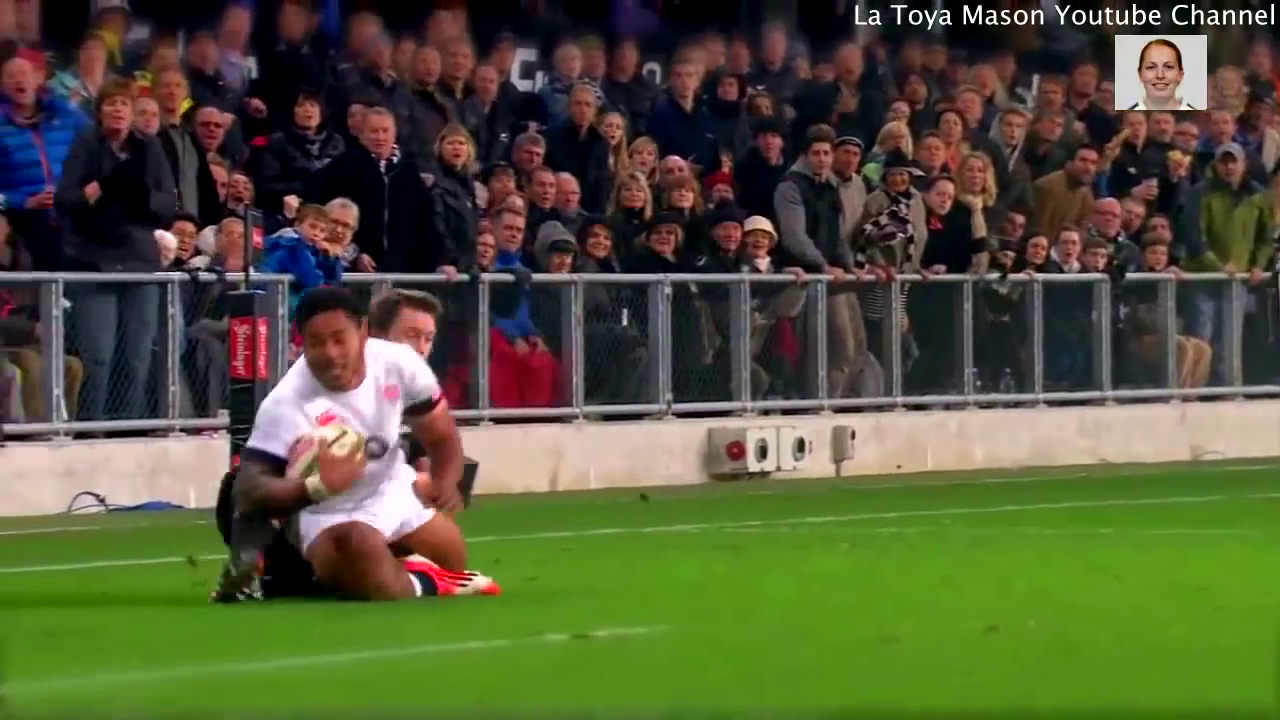ball: (273, 410, 393, 512)
player: (194, 276, 513, 614)
